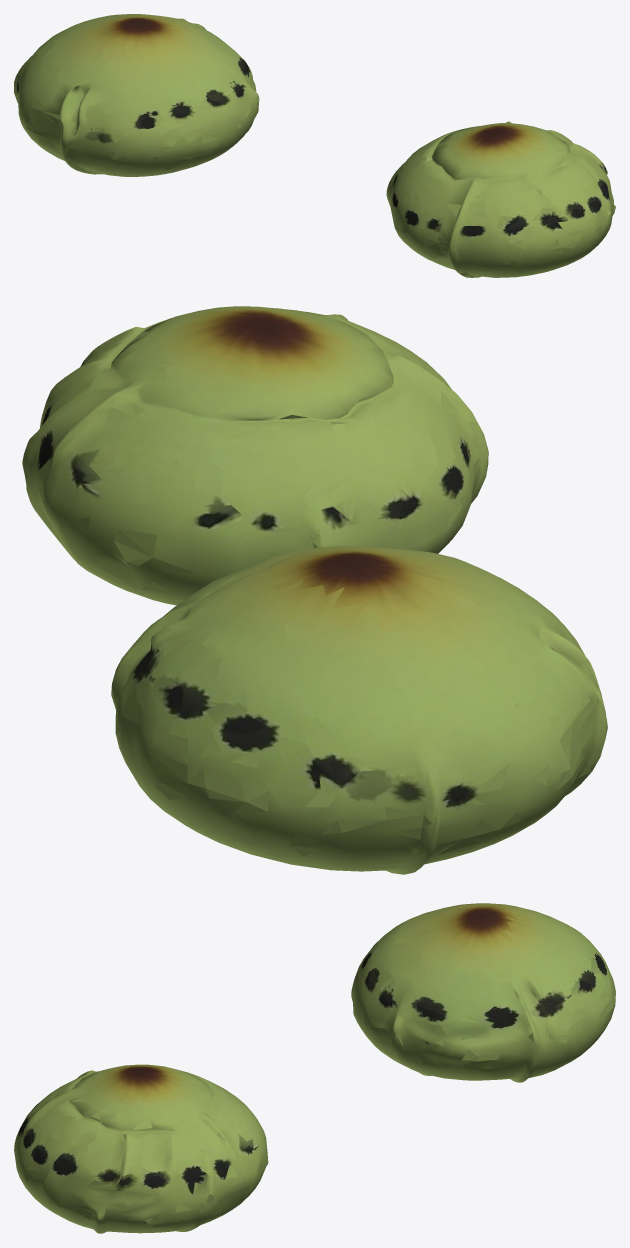
Rendered from huevos.fbx.
3 views of the same model, one above another, from view 1: azimuth 30°, elevation 25°; view 2: azimuth 150°, elevation 25°; view 3: azimuth 270°, elevation 25° (orthographic). The views are drawn at different scales.
Parts seen in each view (by area): view 1: tripo_node_06a6e0aa; view 2: tripo_node_06a6e0aa; view 3: tripo_node_06a6e0aa.
Part boxes in pixels (x1,y1,x2,y2): tripo_node_06a6e0aa: (14, 14, 615, 277); tripo_node_06a6e0aa: (22, 306, 607, 874); tripo_node_06a6e0aa: (14, 903, 615, 1233).
Size of the model in its own units: 0.6698 by 0.2664 by 0.7765.
1 material, 1 textured.
